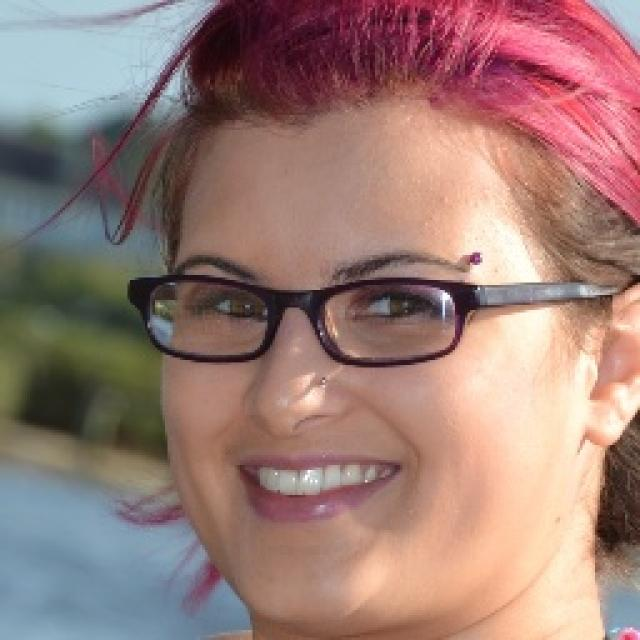earlobe: (583, 393, 626, 450)
eye: (357, 289, 431, 322), (202, 293, 266, 320)
nose: (237, 412, 353, 475)
wholeear: (582, 280, 640, 448)
